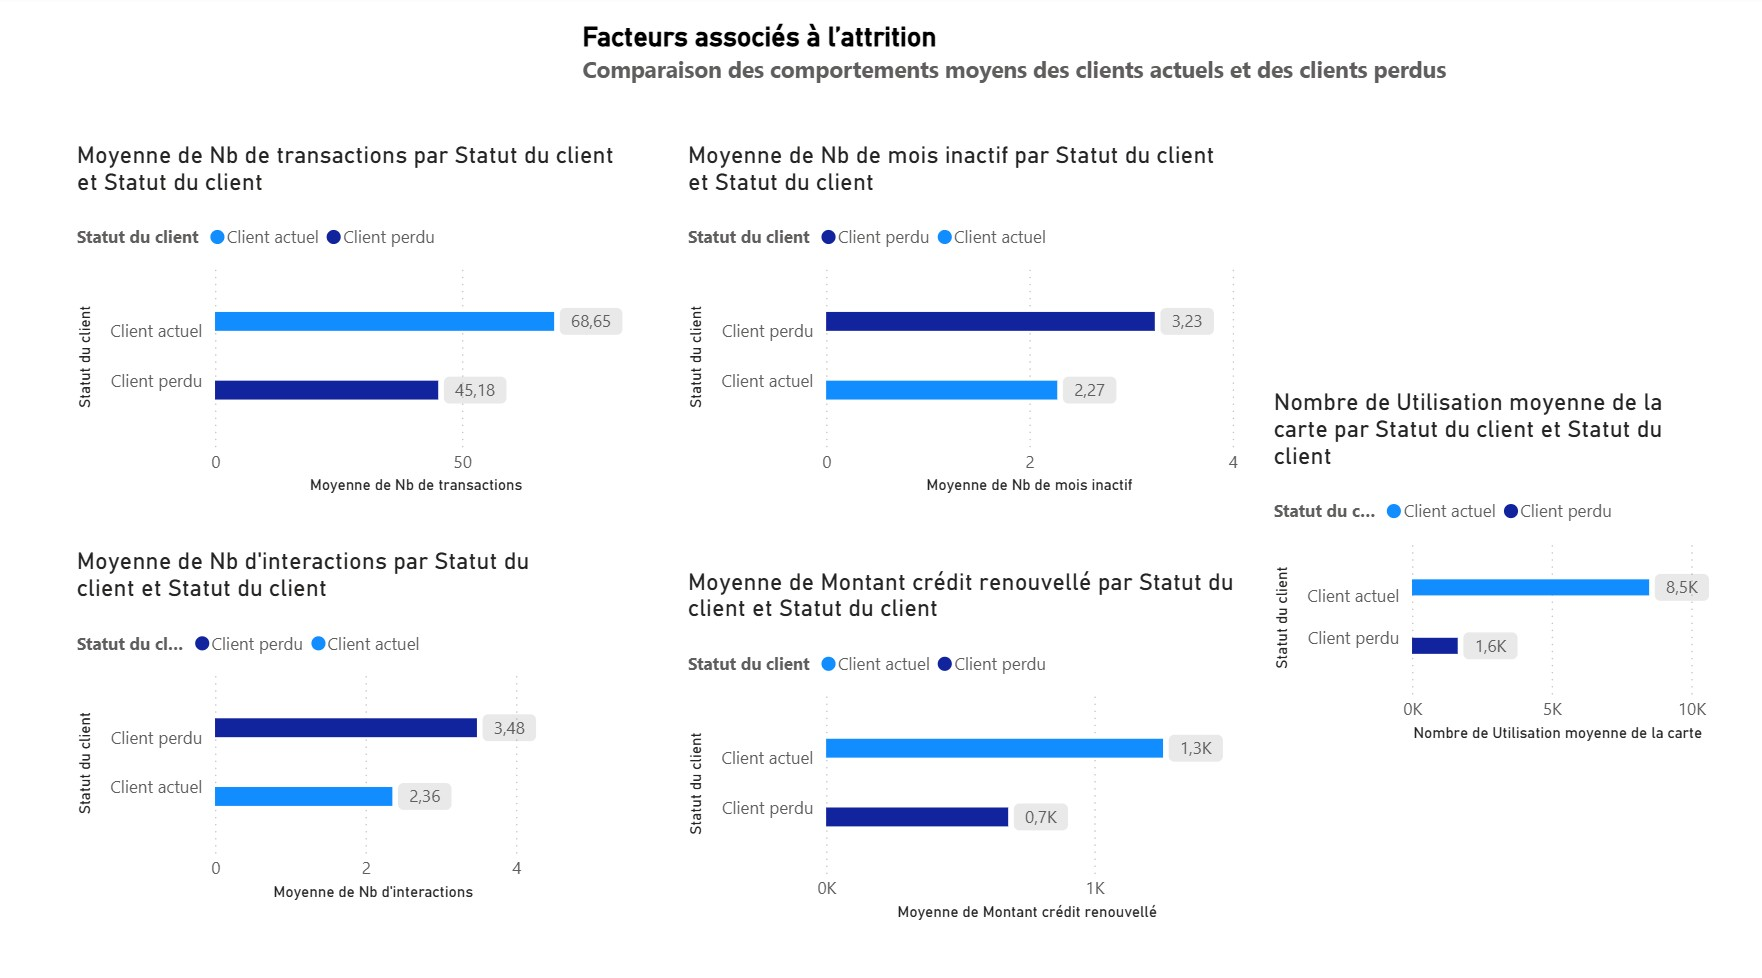

The page's visual inventory and layout, read from the dashboard file:
{"tool":"powerbi","page":{"name":"Facteurs d’attrition","canvas":[1280,720],"ordinal":1},"visuals":[{"type":"clusteredBarChart","fields":{"Y":["Avg(primero_bank_clients_nettoyes.Nb de transactions)"],"Category":["primero_bank_clients_nettoyes.Statut du client"],"Series":["primero_bank_clients_nettoyes.Statut du client"]},"box":[63.9,104.6,400.8,255.6],"z":0},{"type":"clusteredBarChart","fields":{"Y":["Avg(primero_bank_clients_nettoyes.Nb de mois inactif)"],"Category":["primero_bank_clients_nettoyes.Statut du client"],"Series":["primero_bank_clients_nettoyes.Statut du client"]},"box":[498.1,104.6,400.8,255.6],"z":1000},{"type":"clusteredBarChart","fields":{"Y":["Avg(primero_bank_clients_nettoyes.Nb d'interactions)"],"Category":["primero_bank_clients_nettoyes.Statut du client"],"Series":["primero_bank_clients_nettoyes.Statut du client"]},"box":[63.2,392.3,336.9,255.6],"z":2000},{"type":"clusteredBarChart","fields":{"Y":["Avg(primero_bank_clients_nettoyes.Montant crédit renouvellé)"],"Category":["primero_bank_clients_nettoyes.Statut du client"],"Series":["primero_bank_clients_nettoyes.Statut du client"]},"box":[497.4,406.8,400.8,255.6],"z":3000},{"type":"clusteredBarChart","fields":{"Category":["primero_bank_clients_nettoyes.Statut du client"],"Y":["CountNonNull(primero_bank_clients_nettoyes.Utilisation moyenne de la carte)"],"Series":["primero_bank_clients_nettoyes.Statut du client"]},"box":[914.2,279.1,325.3,255.6],"z":4000},{"type":"textbox","title":"Facteurs associés à l’attrition","box":[422.6,18.9,673.8,55.2],"z":5000}]}

Visuals, with their boxes in screenshot pixels (x1, y1, x2, y2), scaled from the page's 1280x720 canvas onto the 1762x978 screenshot:
clusteredBarChart - Avg(primero_bank_clients_nettoyes.Nb de transactions) x primero_bank_clients_nettoyes.Statut du client: <region>88, 142, 640, 489</region>
clusteredBarChart - Avg(primero_bank_clients_nettoyes.Nb de mois inactif) x primero_bank_clients_nettoyes.Statut du client: <region>686, 142, 1237, 489</region>
clusteredBarChart - Avg(primero_bank_clients_nettoyes.Nb d'interactions) x primero_bank_clients_nettoyes.Statut du client: <region>87, 533, 551, 880</region>
clusteredBarChart - Avg(primero_bank_clients_nettoyes.Montant crédit renouvellé) x primero_bank_clients_nettoyes.Statut du client: <region>685, 553, 1236, 900</region>
clusteredBarChart - primero_bank_clients_nettoyes.Statut du client x CountNonNull(primero_bank_clients_nettoyes.Utilisation moyenne de la carte): <region>1258, 379, 1706, 726</region>
"Facteurs associés à l’attrition" textbox: <region>582, 26, 1509, 101</region>
